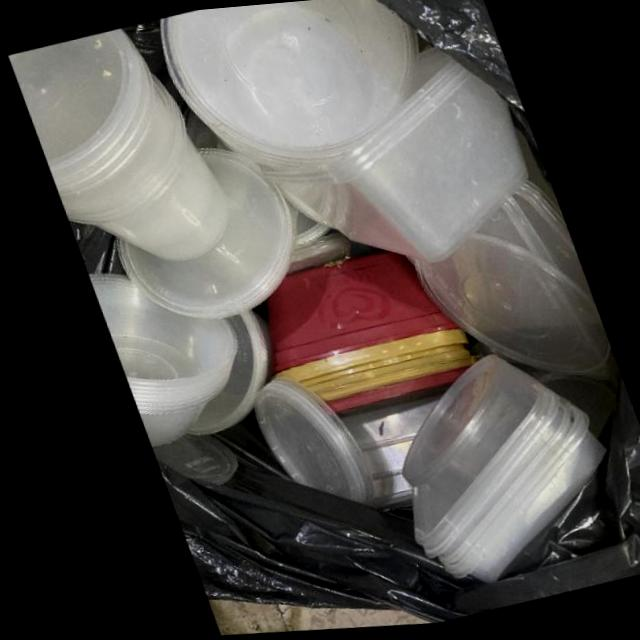hop_nhua: (263, 46, 525, 262), (8, 30, 225, 263), (392, 353, 598, 584), (160, 0, 420, 176), (261, 252, 471, 414), (112, 149, 290, 321), (83, 276, 230, 450)
